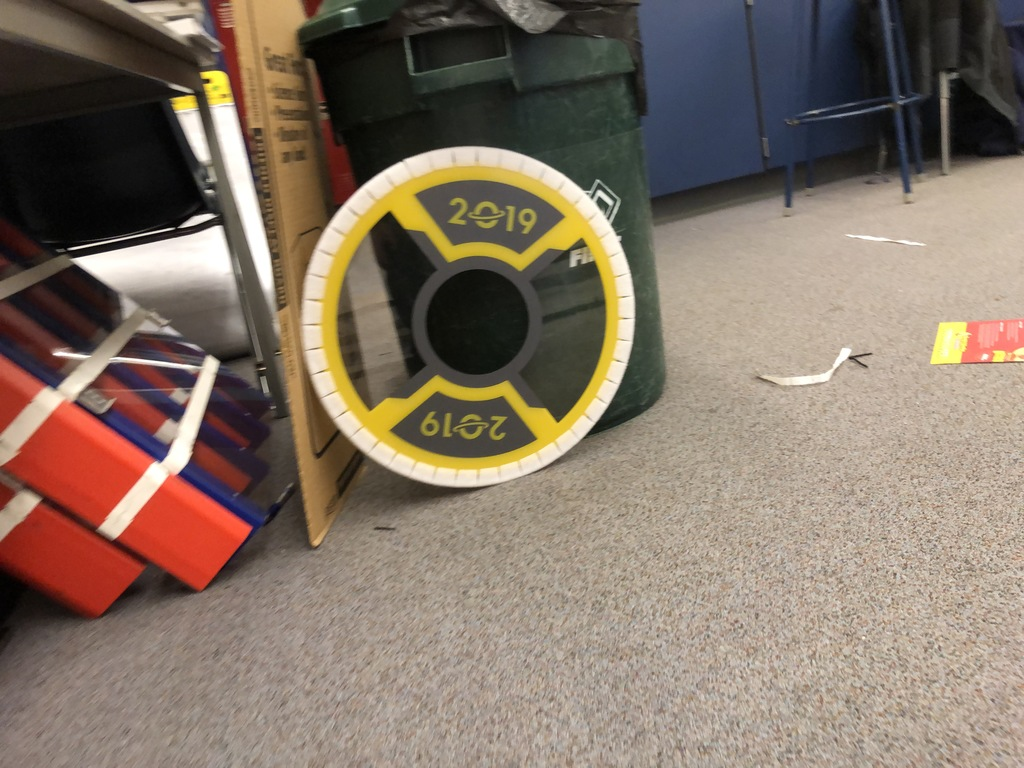hatch_panel: (285, 134, 642, 505)
